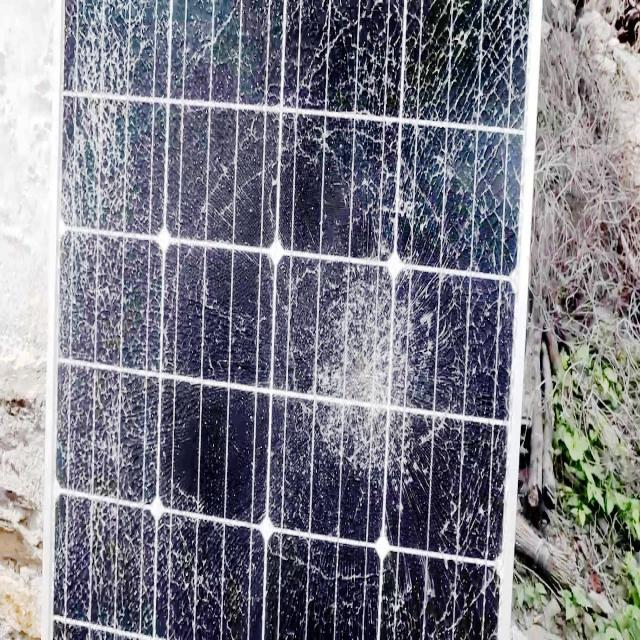faulty: (48, 4, 531, 640)
